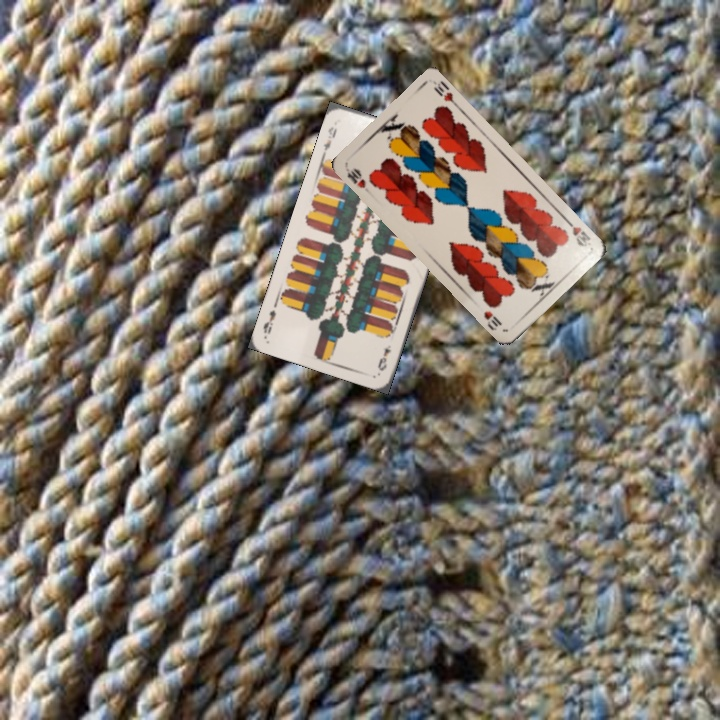E9: (319, 123, 340, 158), (374, 341, 394, 374)
H10: (561, 215, 594, 249), (342, 164, 374, 197)
